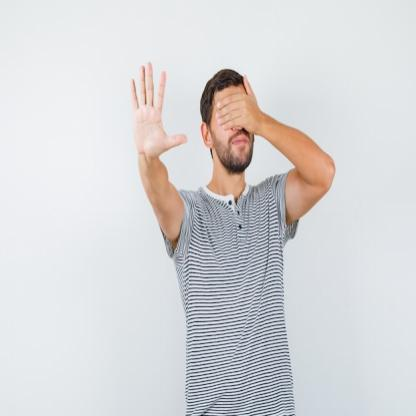stop: (128, 58, 190, 159)
